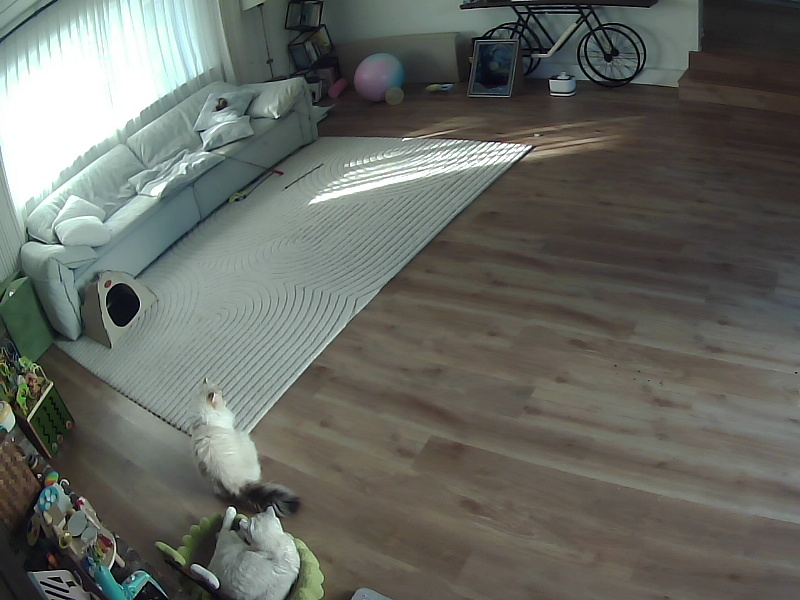Qb-2: (208, 506, 299, 599)
Qbo-2: (191, 379, 299, 515)
